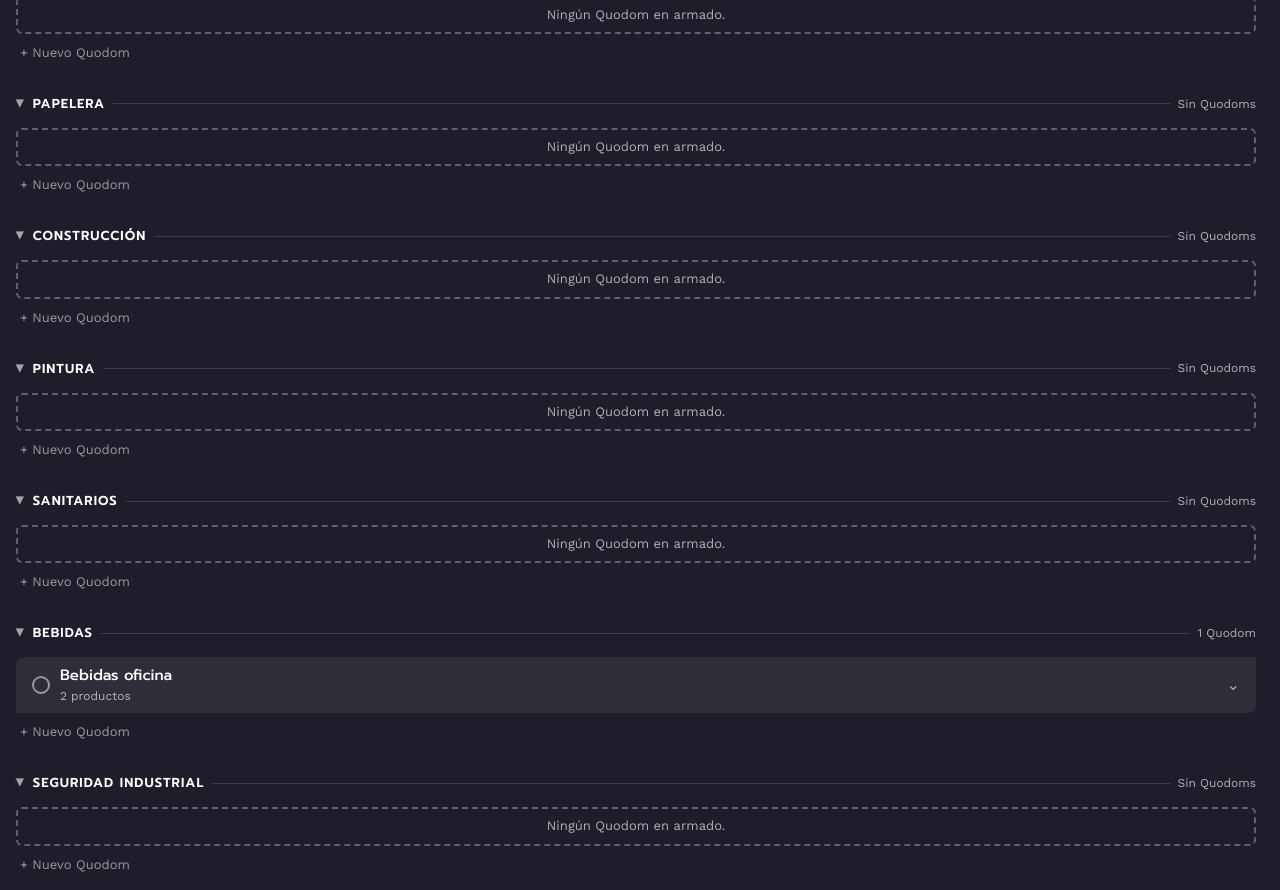
sidebar: mini editor › el segundo clic minimiza los productos
(page scrolled)
What coordinates should you click on to do the following:
click the text "Bebidas oficina"
I would click on:
 (116, 676)
Its box is top-left (60, 664), bottom-right (172, 686).
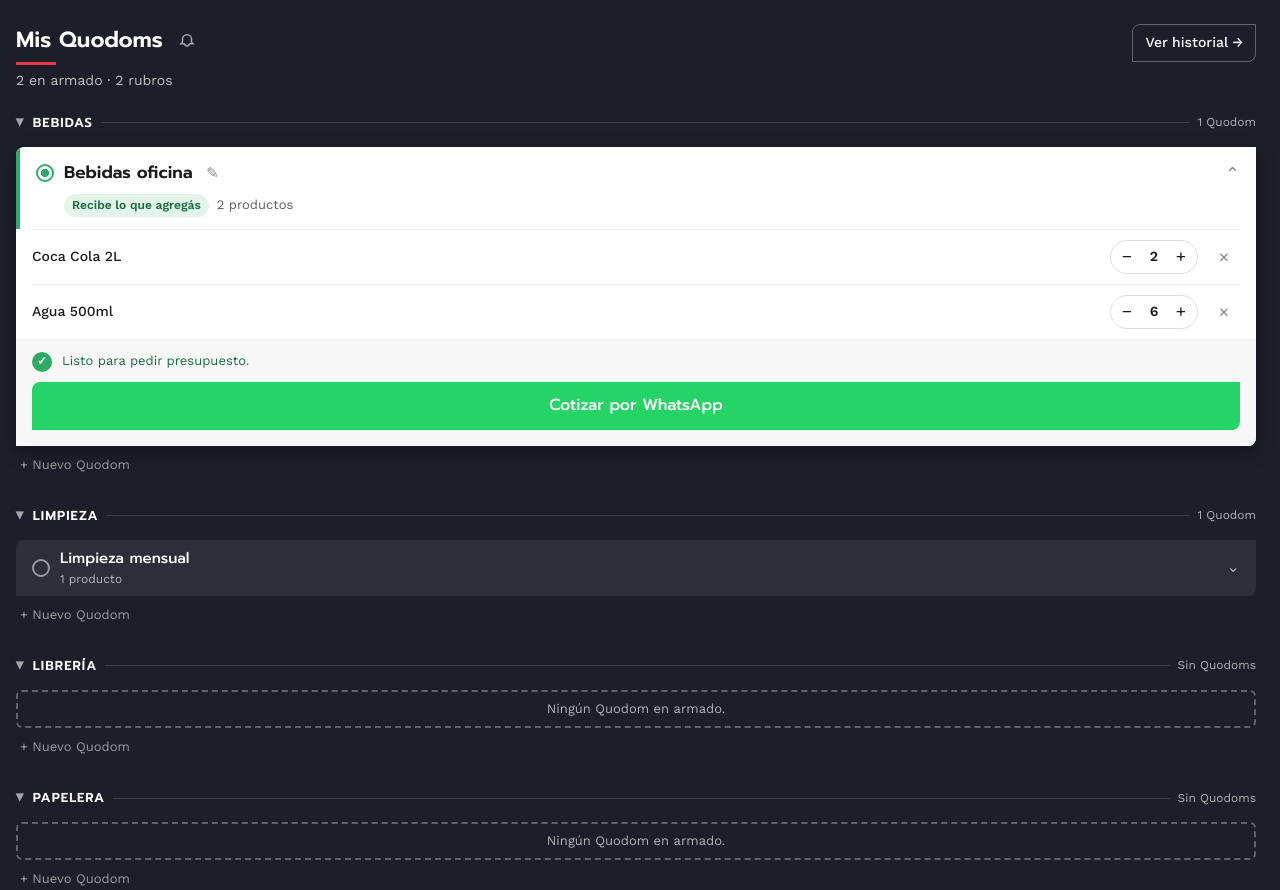
expect the text "Coca Cola 2L" is shown: met, box top-left (32, 248), bottom-right (121, 266)
What coordinates should you click on to do the following:
click the button named "Bebidas oficina"
I would click on:
 (638, 188)
Its box is top-left (20, 147), bottom-right (1256, 229).
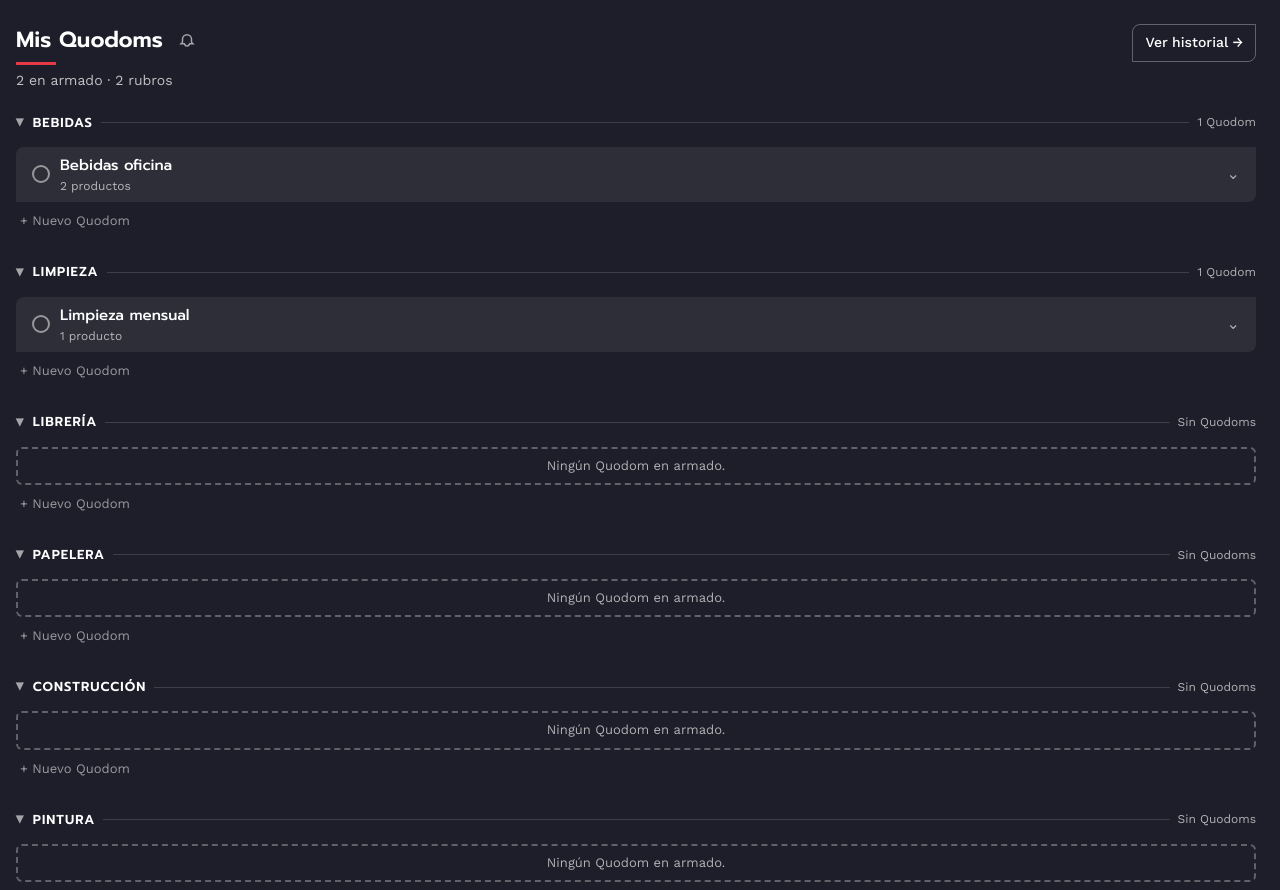
expect the text "Coca Cola 2L" is gone: met
